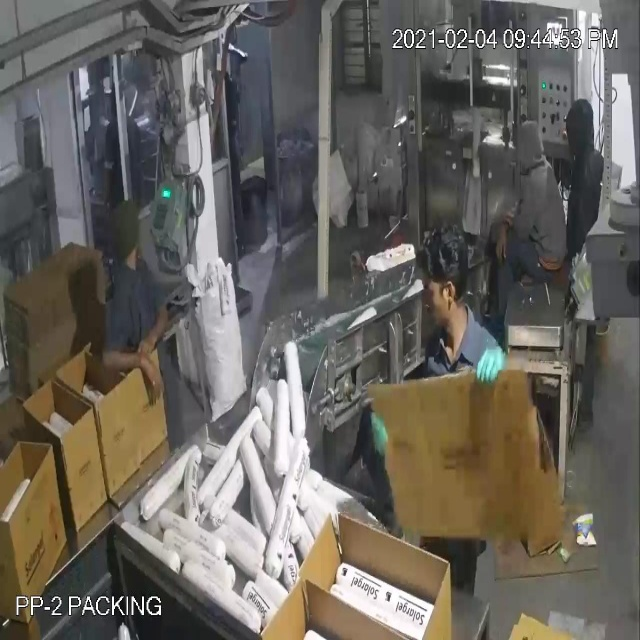Guantes: (470, 339, 506, 386)
Sin_guantes: (92, 330, 173, 411), (129, 307, 182, 358), (490, 212, 513, 260)
